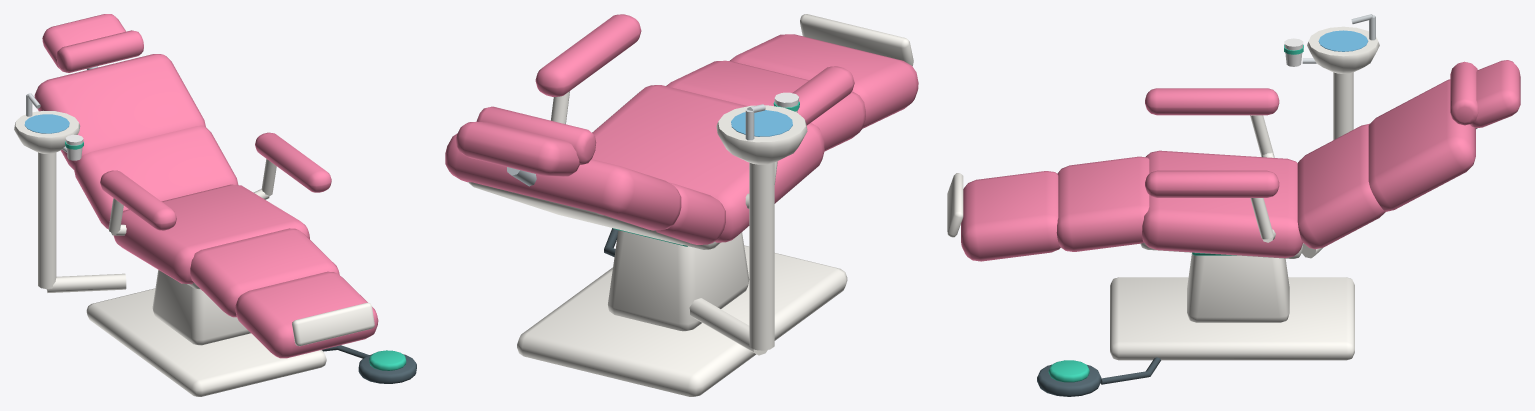
Rendered from chair_comfort.glb.
3 renders of one model, left to right at view 1: azimuth 30°, elevation 25°; view 2: azimuth 150°, elevation 25°; view 3: azimuth 270°, elevation 25°, orthographic. The views are drawn at different scales.
Visible parts, largest first — view 1: Chair; view 2: Chair; view 3: Chair.
Boxes of the visible parts, bbox=[...] form: Chair: bbox=[14, 14, 416, 396]; Chair: bbox=[445, 14, 918, 396]; Chair: bbox=[947, 14, 1520, 396].
Size of the model in its own units: 1.17 by 0.9596 by 1.96.
